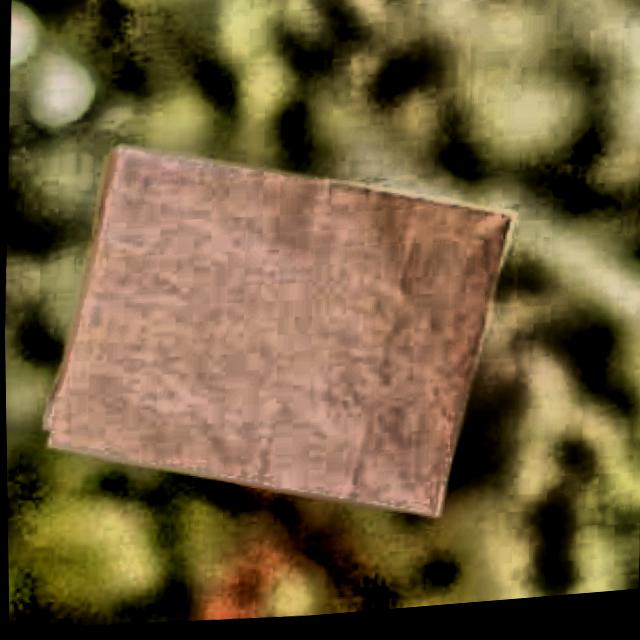Paper-bag: (24, 111, 521, 568)
